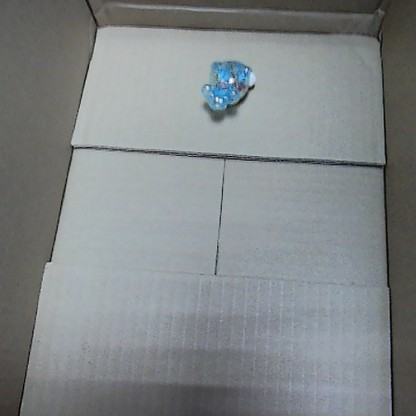bluefish: (201, 55, 257, 114)
